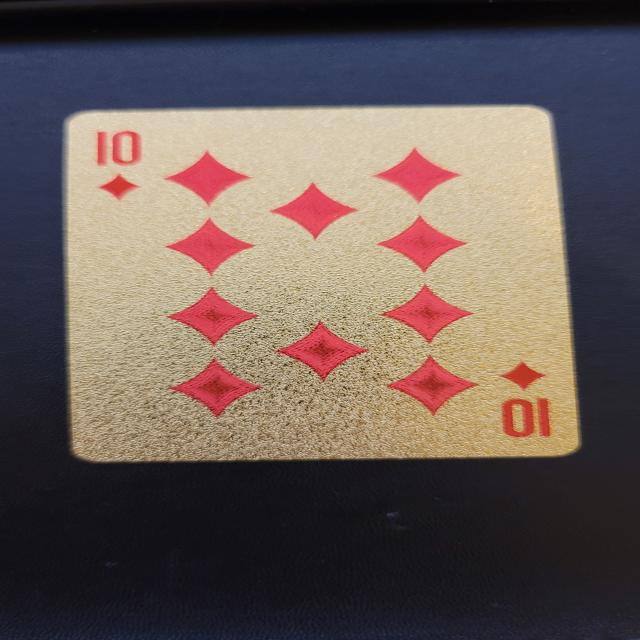10 of diamonds: (61, 103, 587, 463)
